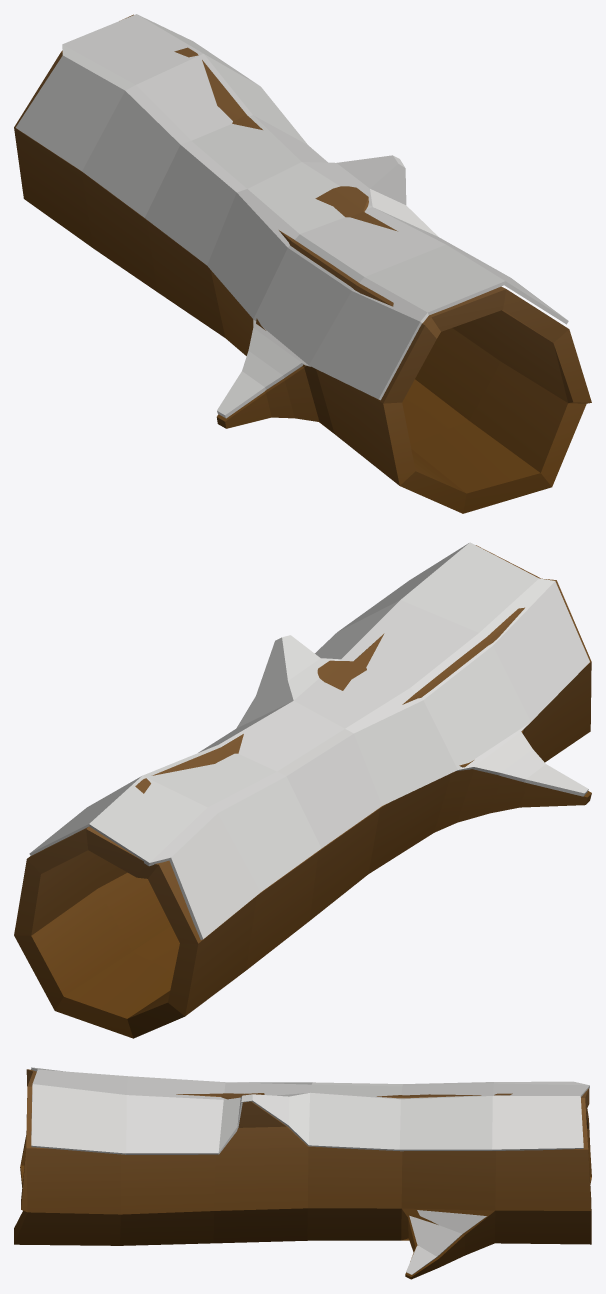
The model's file is Fallen_tree.fbx.
3 views of the same model, one above another, from view 1: azimuth 30°, elevation 25°; view 2: azimuth 150°, elevation 25°; view 3: azimuth 270°, elevation 25° (orthographic). The views are drawn at different scales.
Visible parts, largest first — view 1: Fallen_tree.001; view 2: Fallen_tree.001; view 3: Fallen_tree.001.
Boxes of the visible parts, left/top/right/bottom form: Fallen_tree.001: left=14, top=14, right=591, bottom=513; Fallen_tree.001: left=14, top=542, right=591, bottom=1038; Fallen_tree.001: left=14, top=1067, right=591, bottom=1279.
Bounding box in the file's own units: 86.61 × 60.19 × 192.
2 materials, 1 textured.
